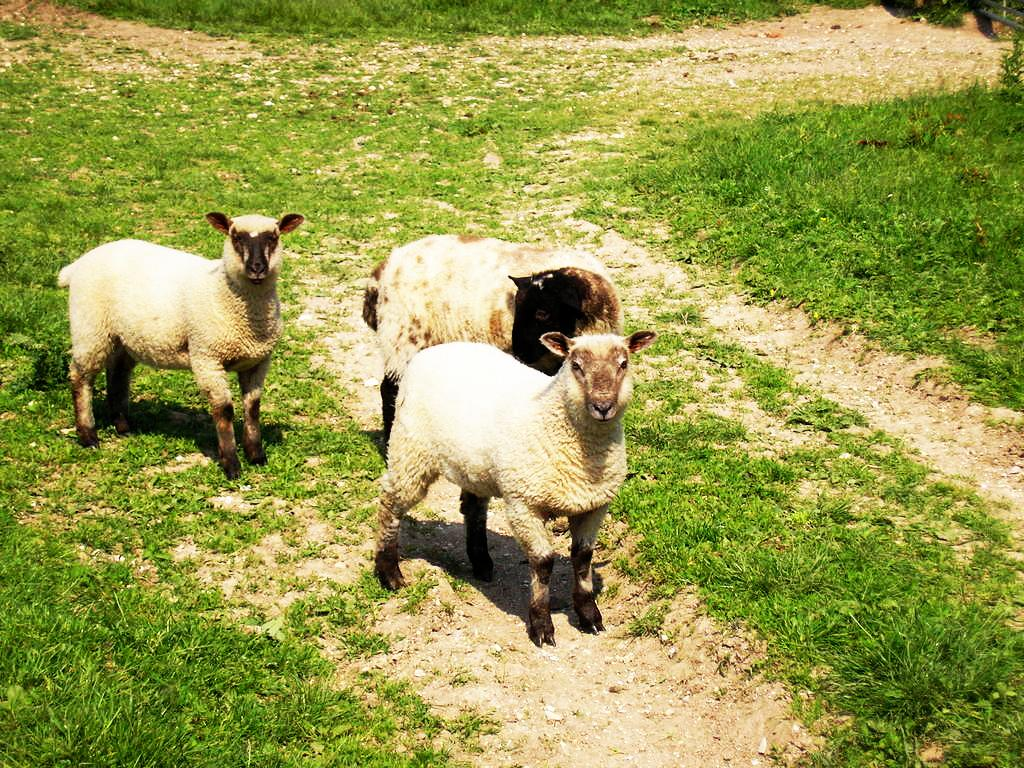Sheep: (376, 331, 658, 645), (51, 207, 306, 478), (362, 234, 626, 452)
